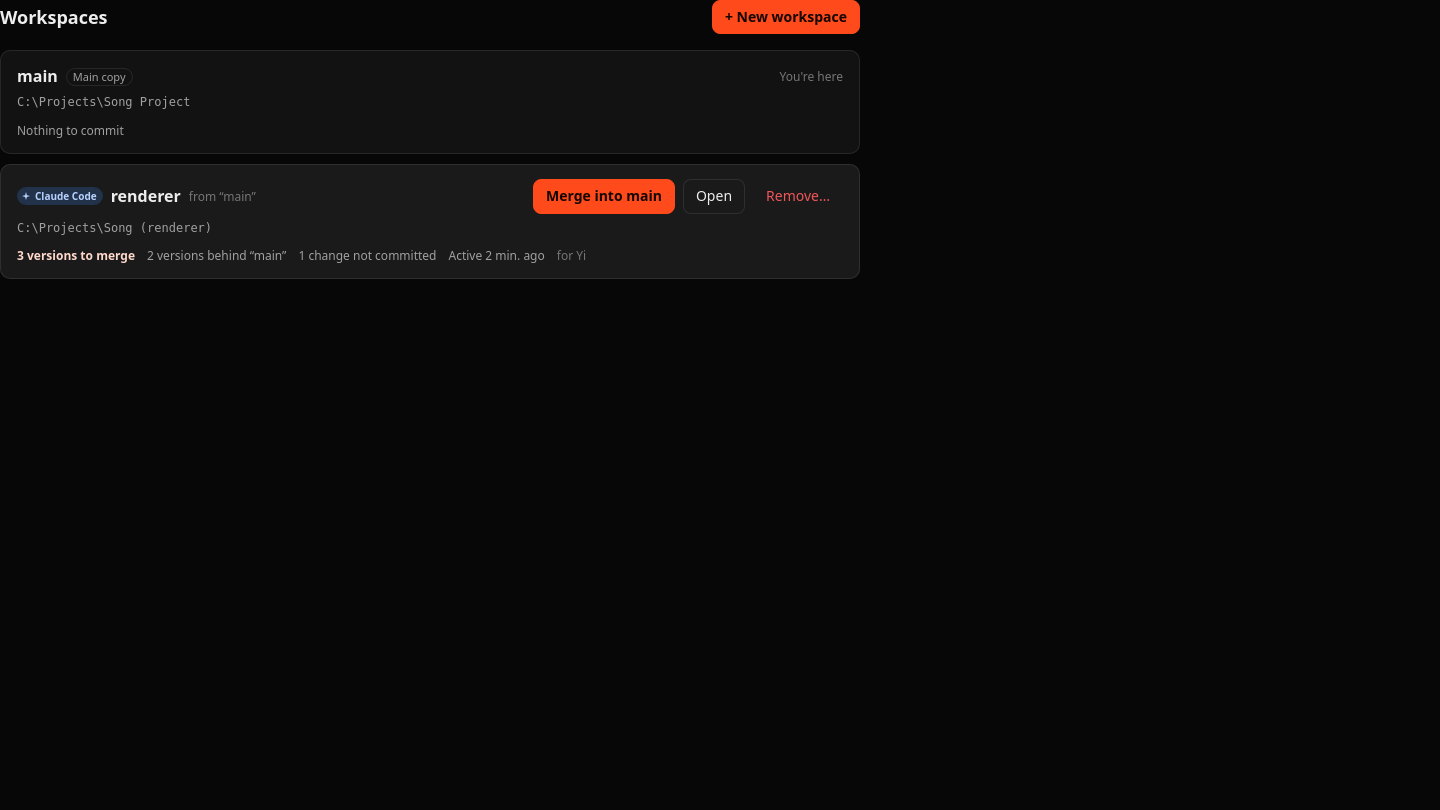
Scenario: The Agents view › keeps a refused workspace when asked
Step 1. Click the button "Remove…" → (798, 196), box [753, 179, 843, 214]
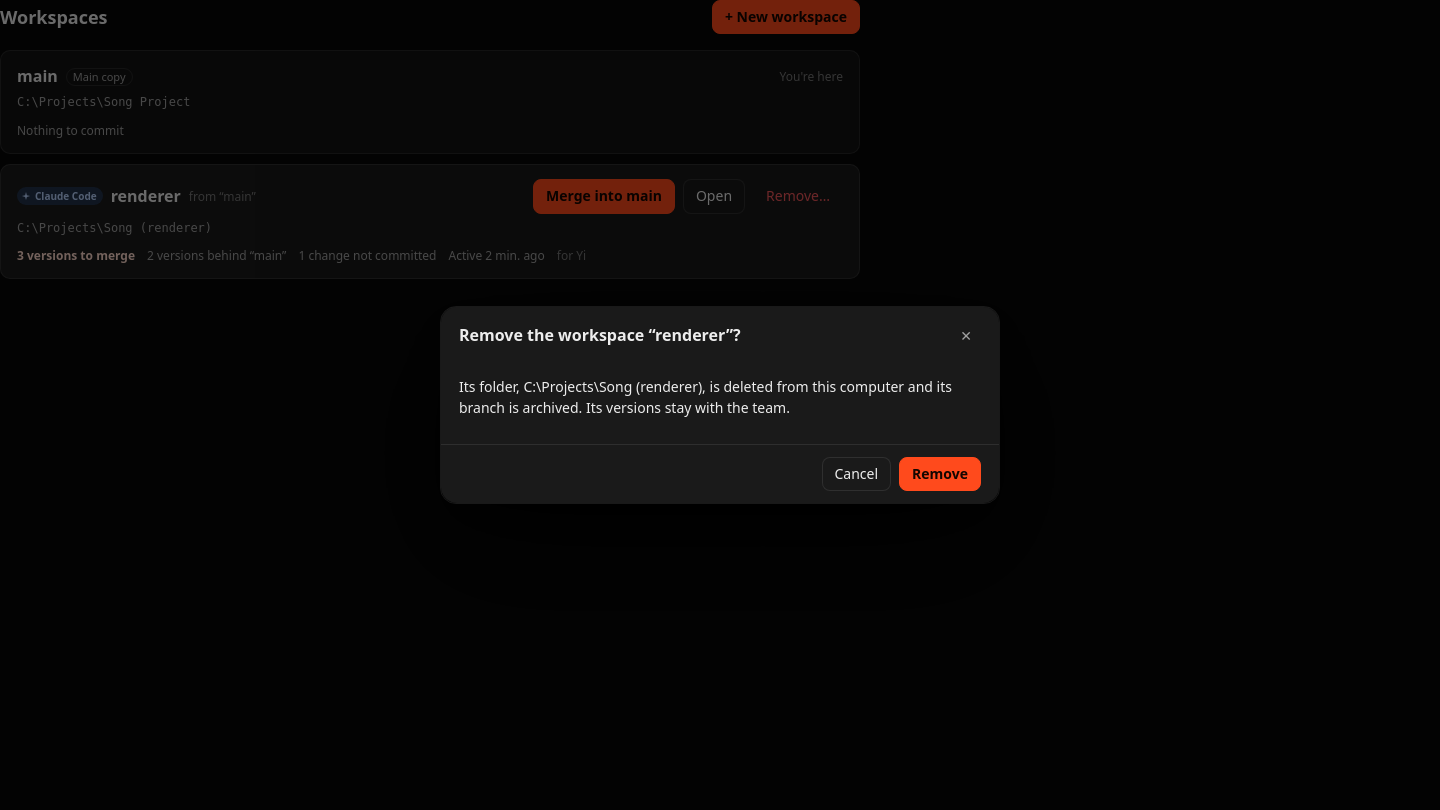
Step 2. Click the button "Remove" → (940, 474), box [899, 457, 981, 491]
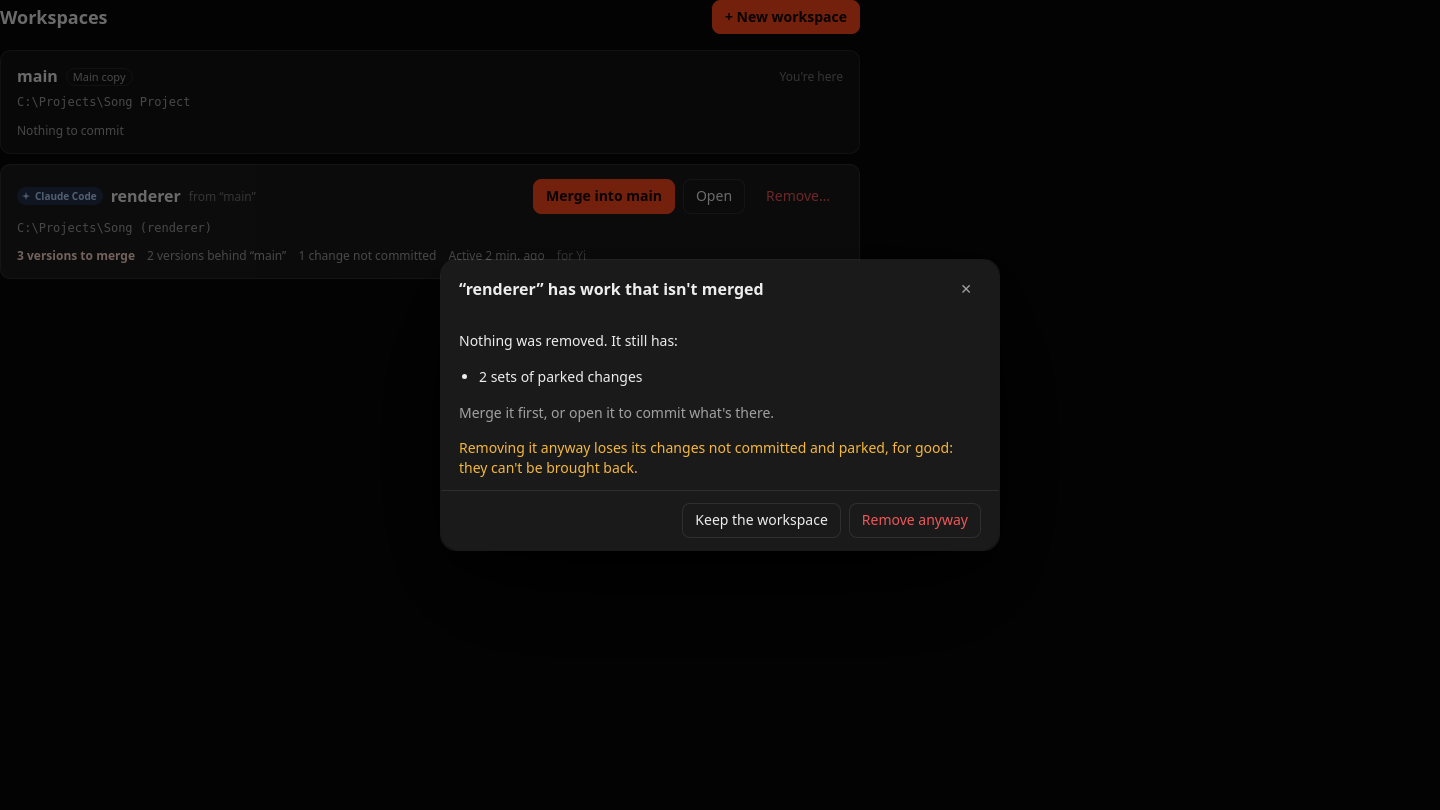
Check: the list item "2 sets of parked changes" is shown, box [479, 367, 642, 386]
Step 3. Click the button "Keep the workspace" → (762, 520), box [682, 503, 841, 538]
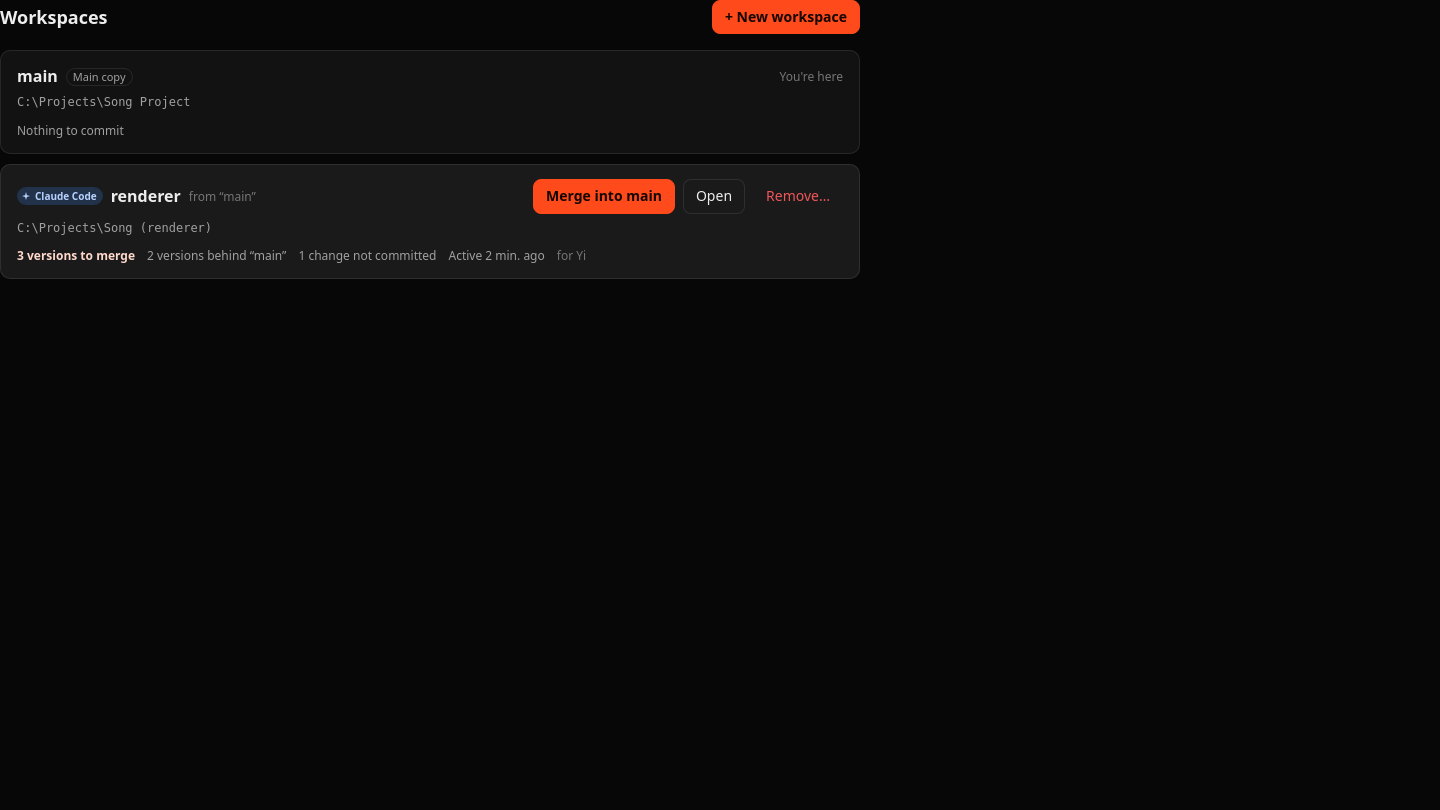
Check: the dialog is gone
